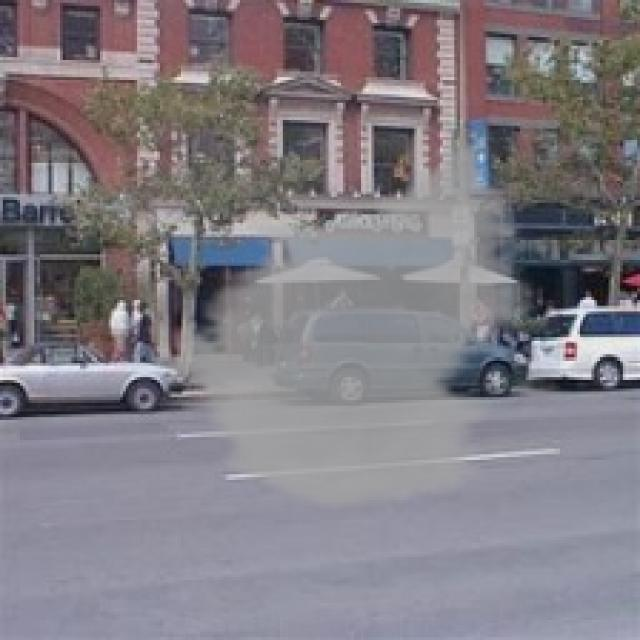smoke: (157, 140, 549, 514)
